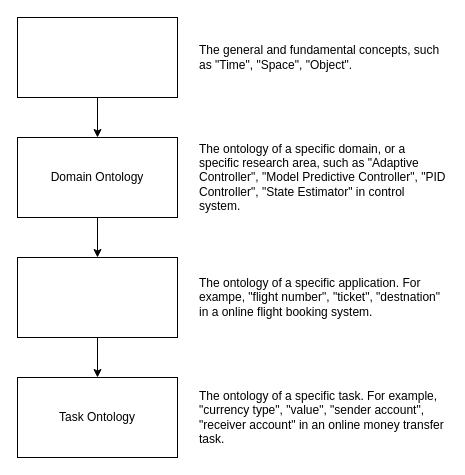
Some shapes in this 465 by 475 pixel diagram are drawn without their labels. Each missing label, with the centre of its shape:
"Application Ontology" belongs at point (97, 297).
"Top-Level Ontology (Upper Ontology)" belongs at point (97, 57).
